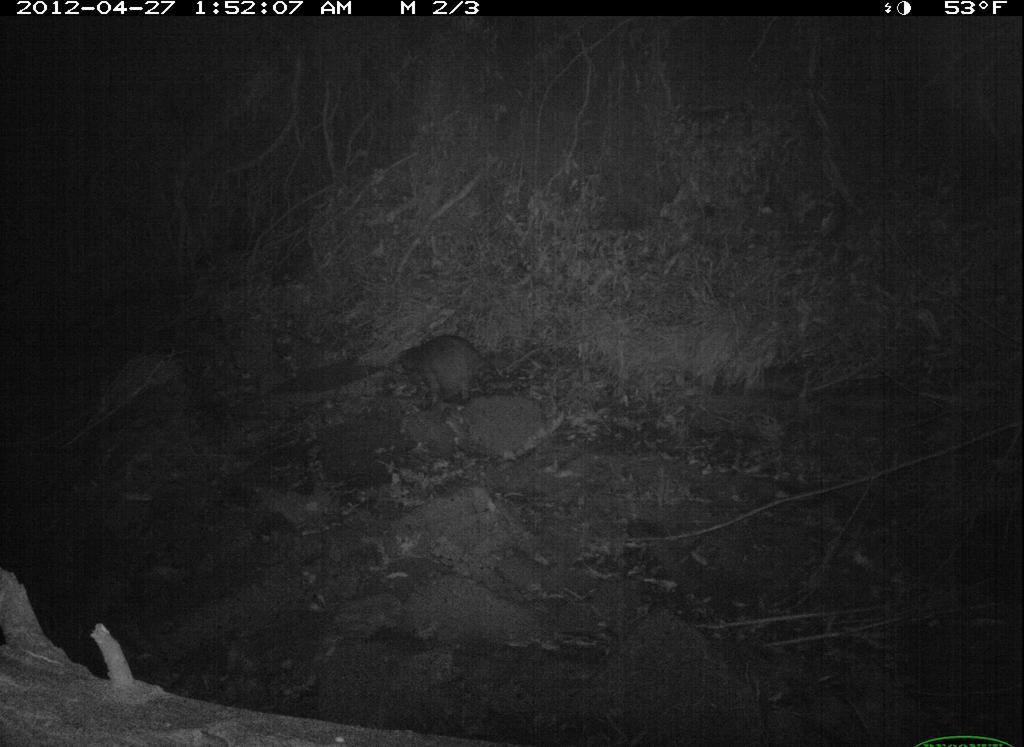raccoon: (392, 335, 504, 414)
